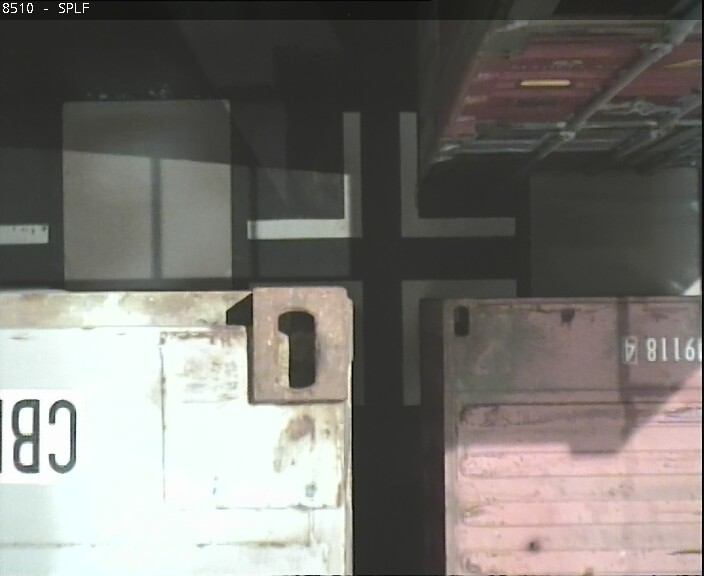groundmarker_1: (247, 108, 522, 238), (340, 280, 521, 406)
